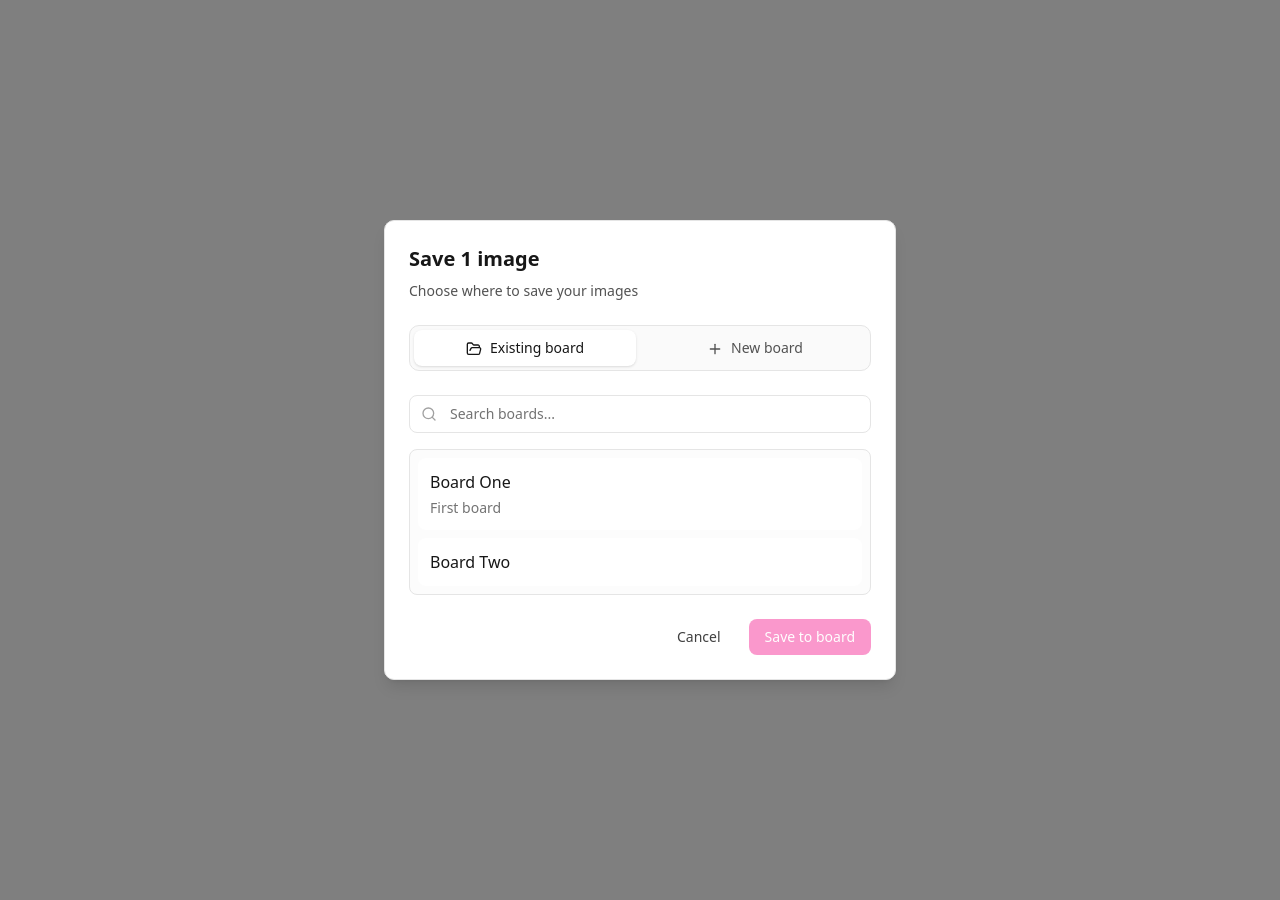
Test: SaveStagedImagesModal › shows character count in create mode
The width and height of the screenshot is (1280, 900).
Click the button "New board".
click(755, 348)  # box [644, 330, 866, 366]
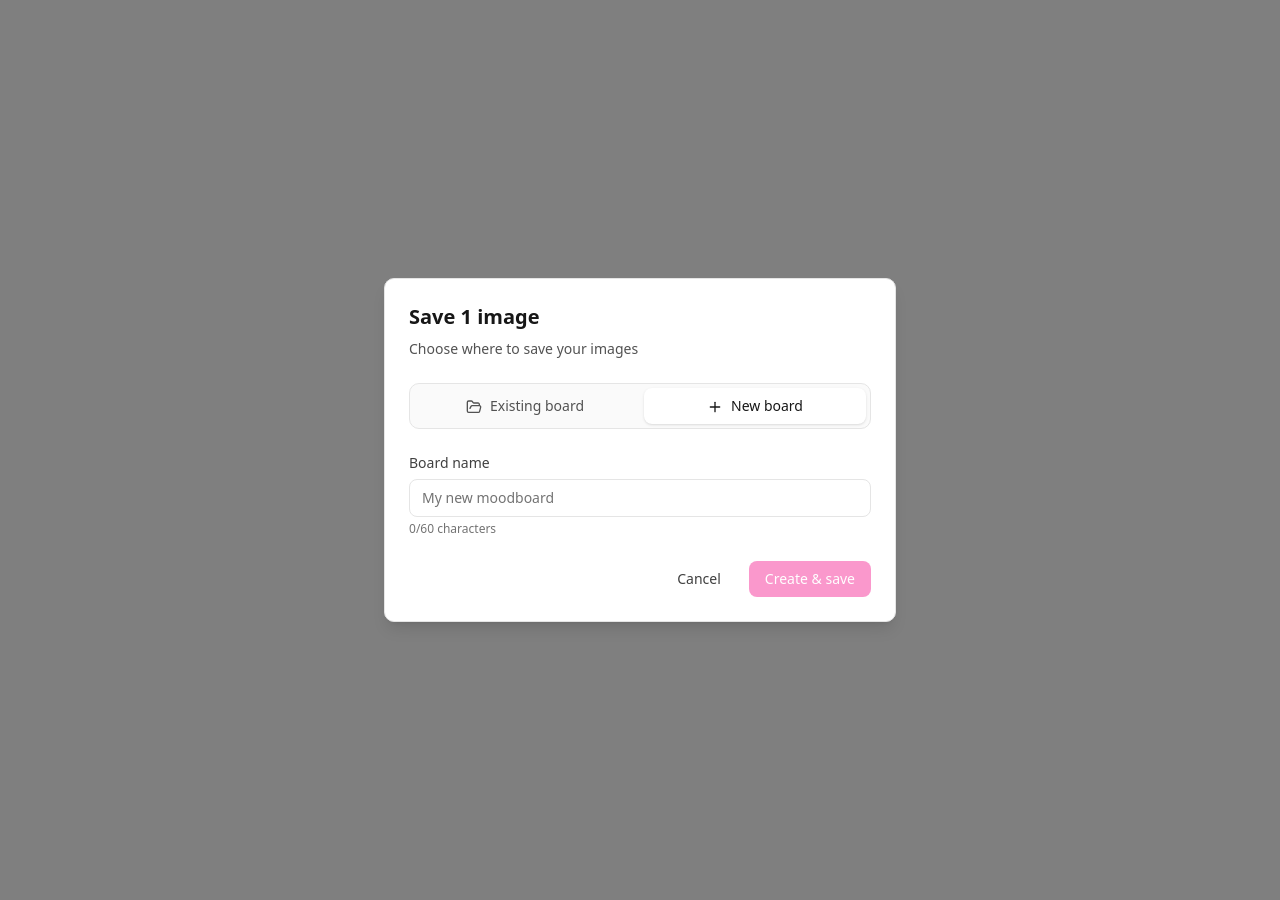
Type "Test" into the field labelled "Board name".
click(640, 498); type("Test")  # box [409, 479, 871, 517]
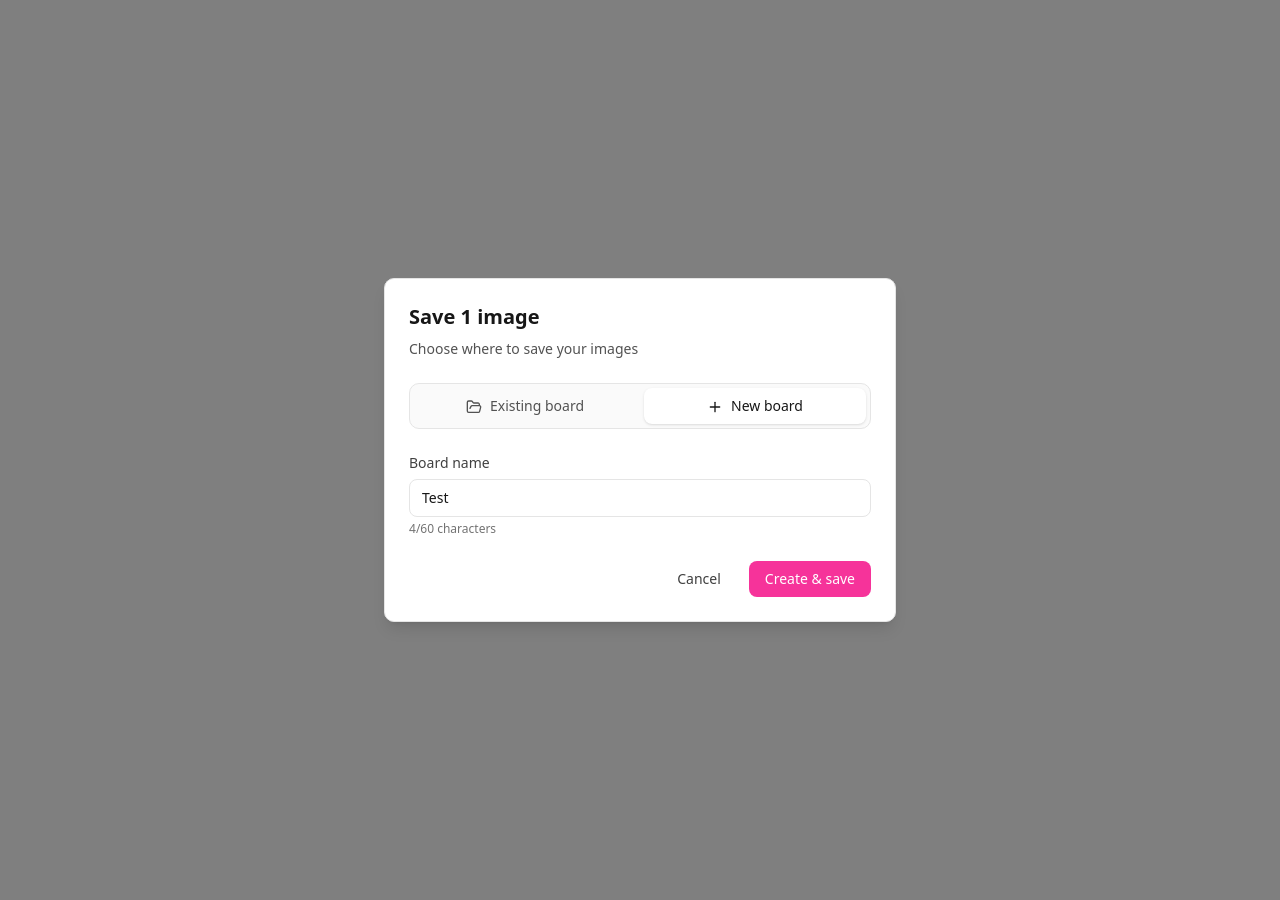
Expected: the text "4/60 characters" is shown, [409, 520, 496, 537]
